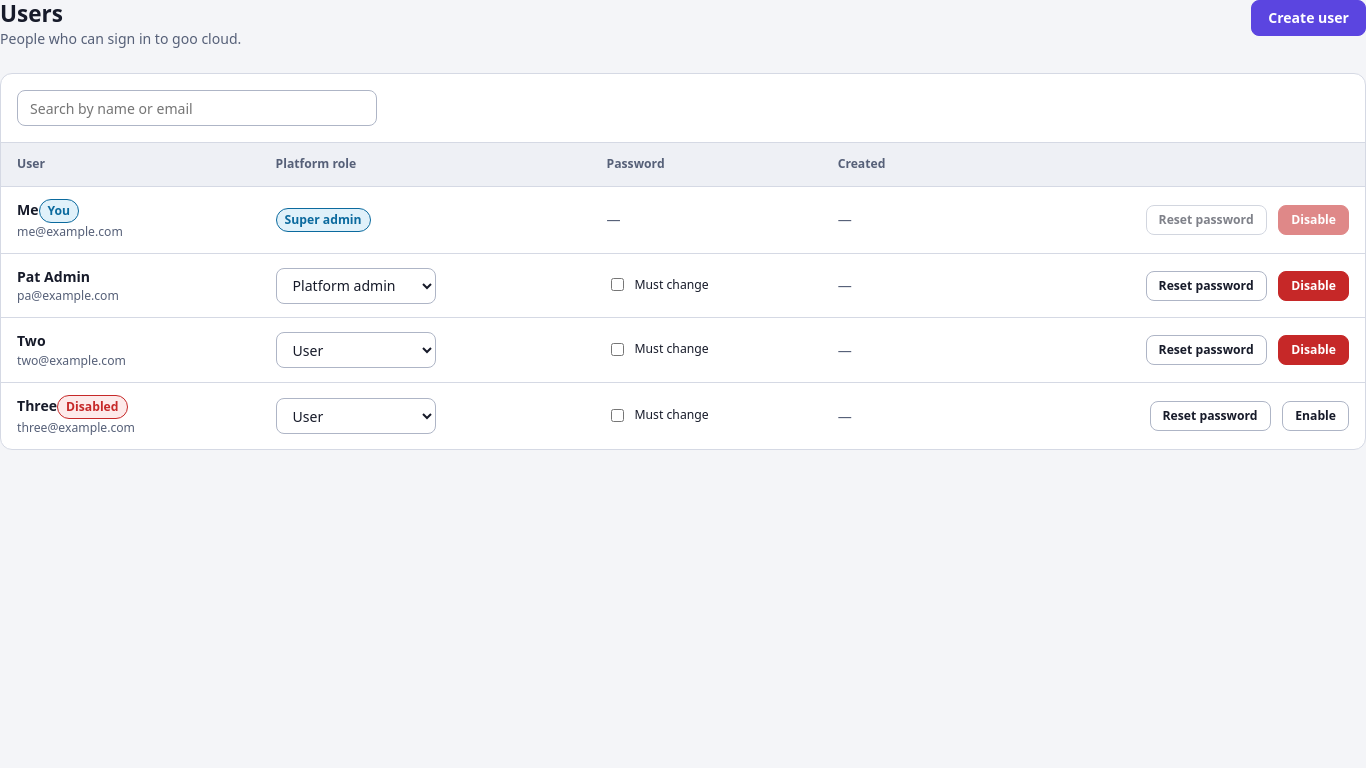
UsersPage role-based UI › must change password / reset password › reset asks for confirmation, then shows the new temporary password exactly once
Expected: the text "Two" is shown, [17, 331, 46, 350]
Click the button with aria-label "Reset password for two@example.com" at (1206, 350), box [1146, 335, 1267, 365]
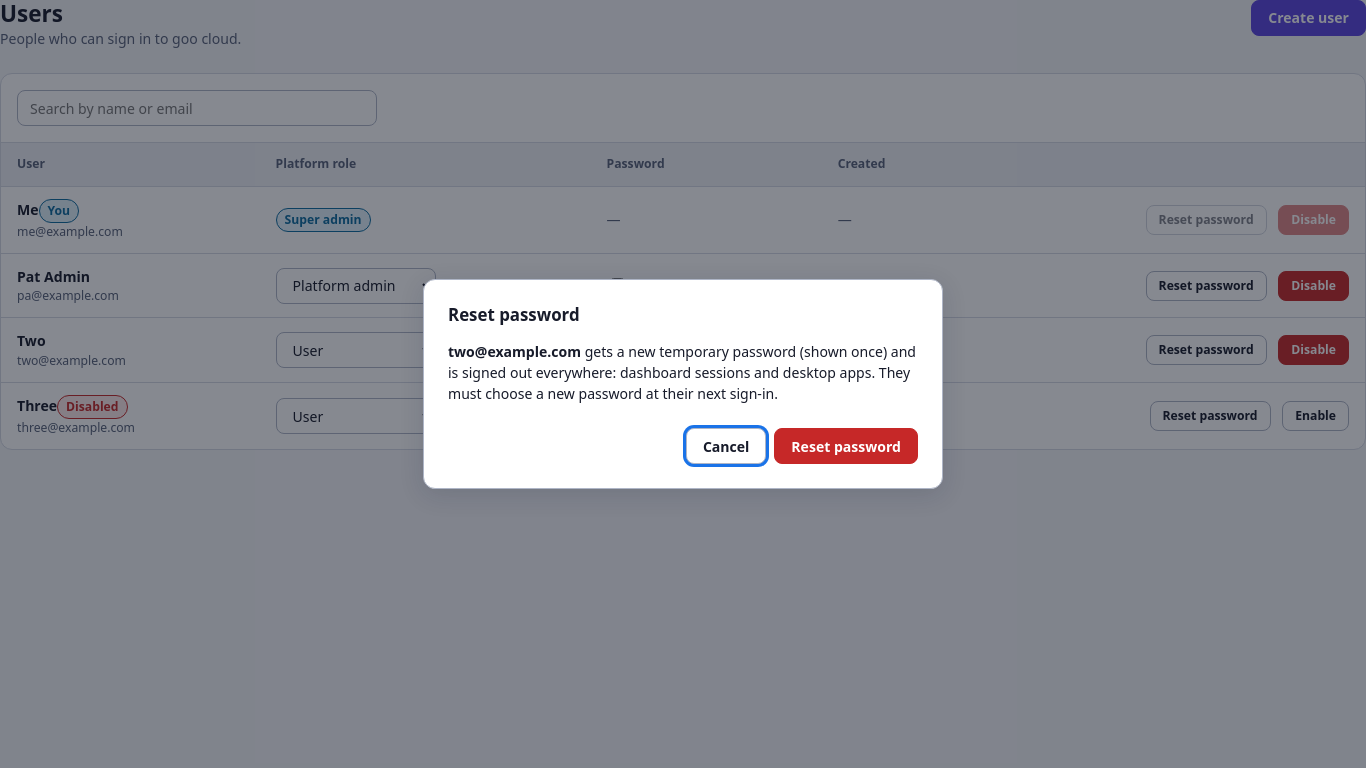
Expected: the text "signed out everywhere" is shown, [448, 342, 916, 403]
Click the button "Reset password" at (846, 446), box [774, 428, 918, 464]
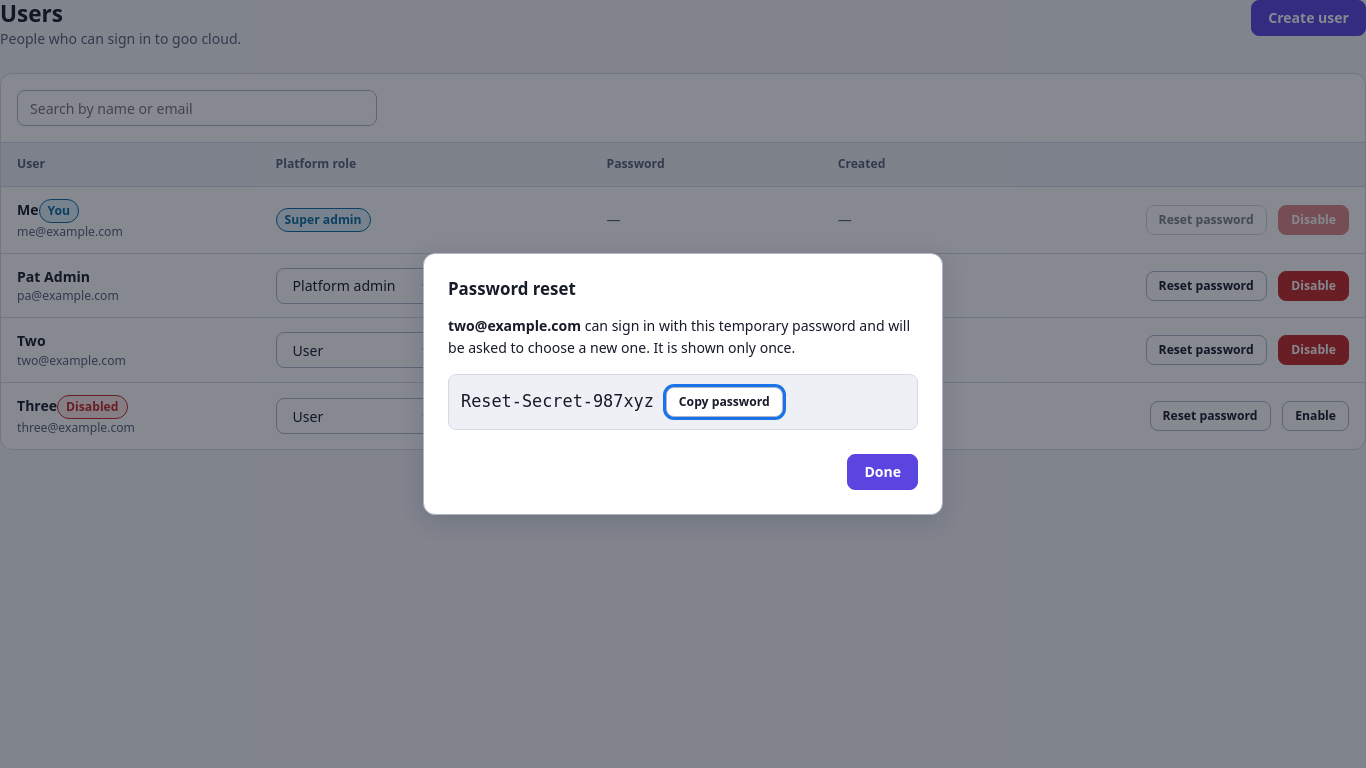
Expected: the text named "Temporary password" reads "Reset-Secret-987xyz", [461, 391, 654, 411]
Expected: the checkbox named "Require password change for two@example.com" is checked, [611, 343, 624, 356]
Click the button "Done" at (883, 472), box [847, 454, 918, 490]
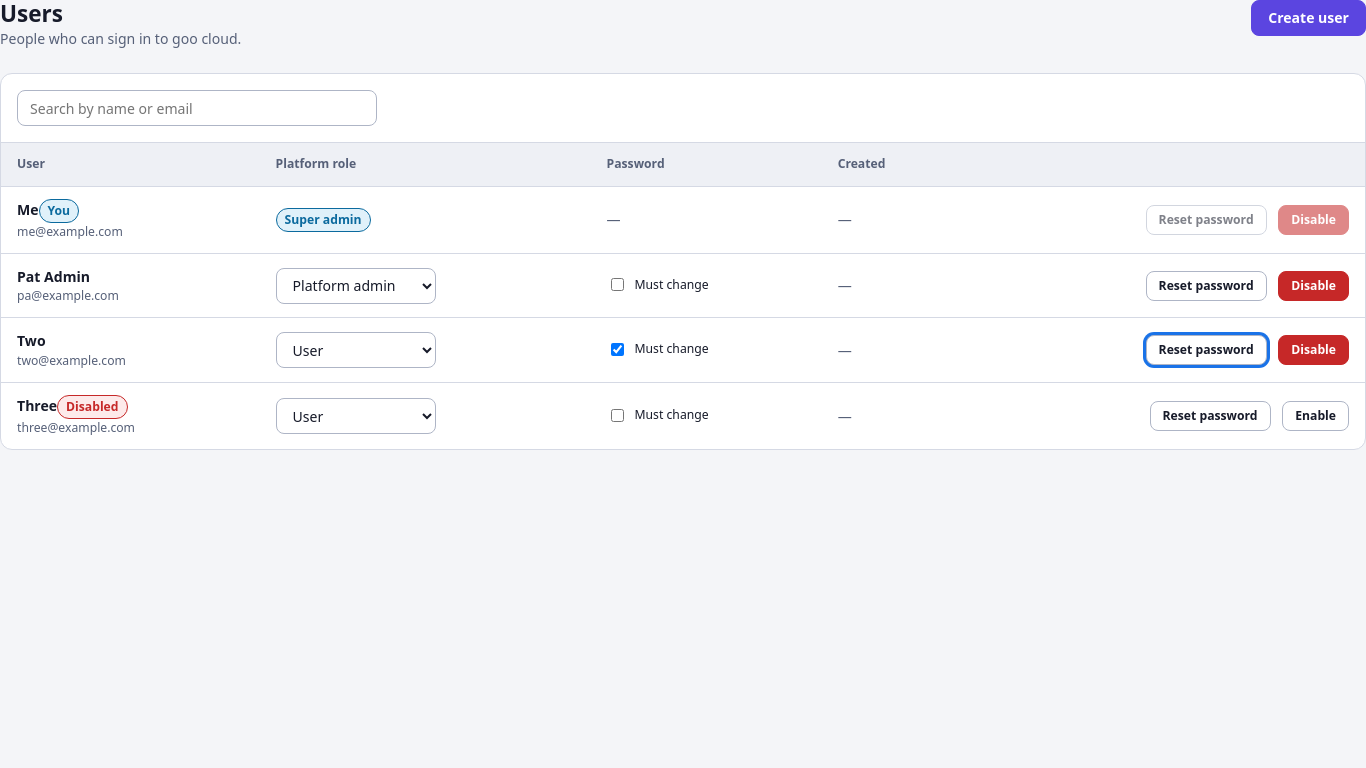
Expected: the text "Reset-Secret-987xyz" is gone
